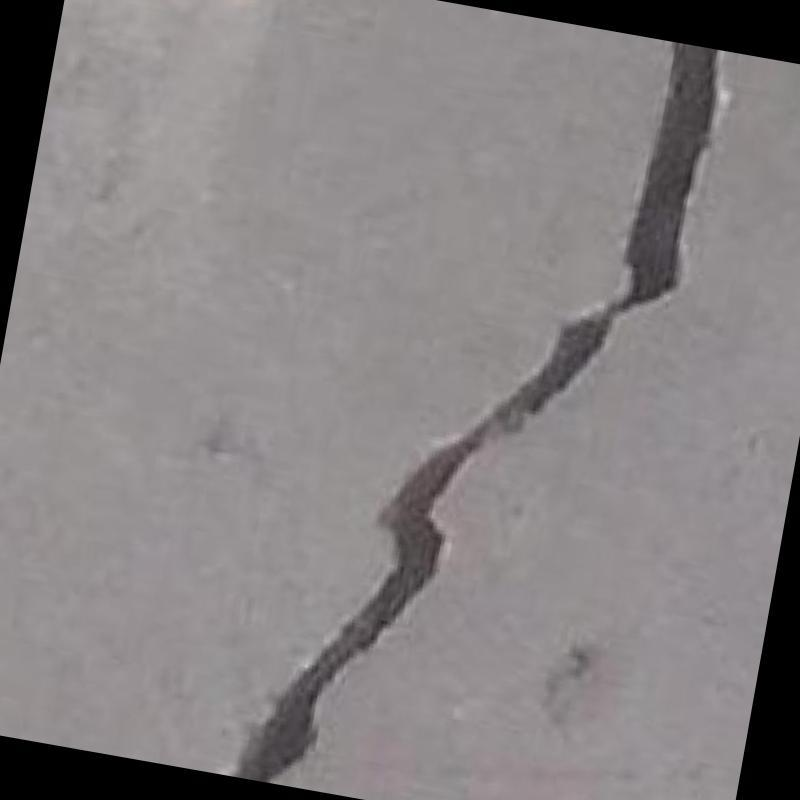crack: (232, 42, 717, 782)
